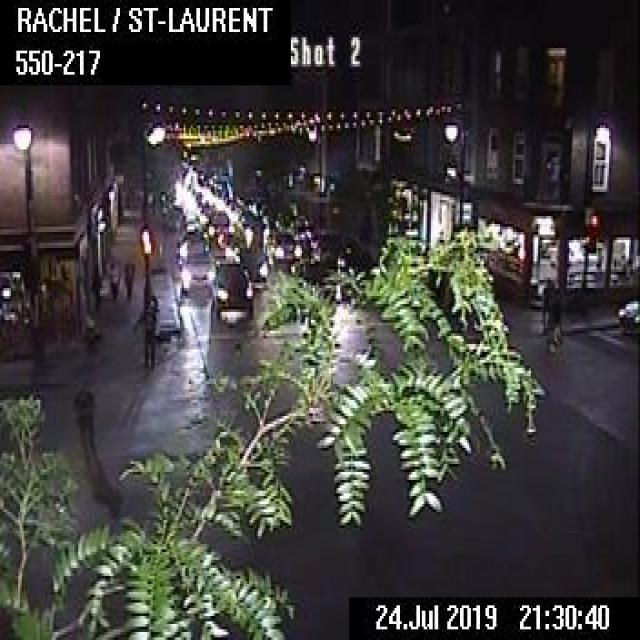pedestrian: (71, 376, 102, 464), (135, 285, 156, 367), (538, 275, 556, 325), (108, 251, 120, 304), (122, 254, 134, 298)
vehicle: (211, 262, 251, 318), (151, 291, 181, 338), (179, 252, 211, 296), (234, 250, 268, 286), (265, 232, 301, 265), (240, 212, 268, 245), (206, 208, 232, 242), (615, 296, 638, 325)
